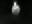person: (11, 2, 22, 17)
